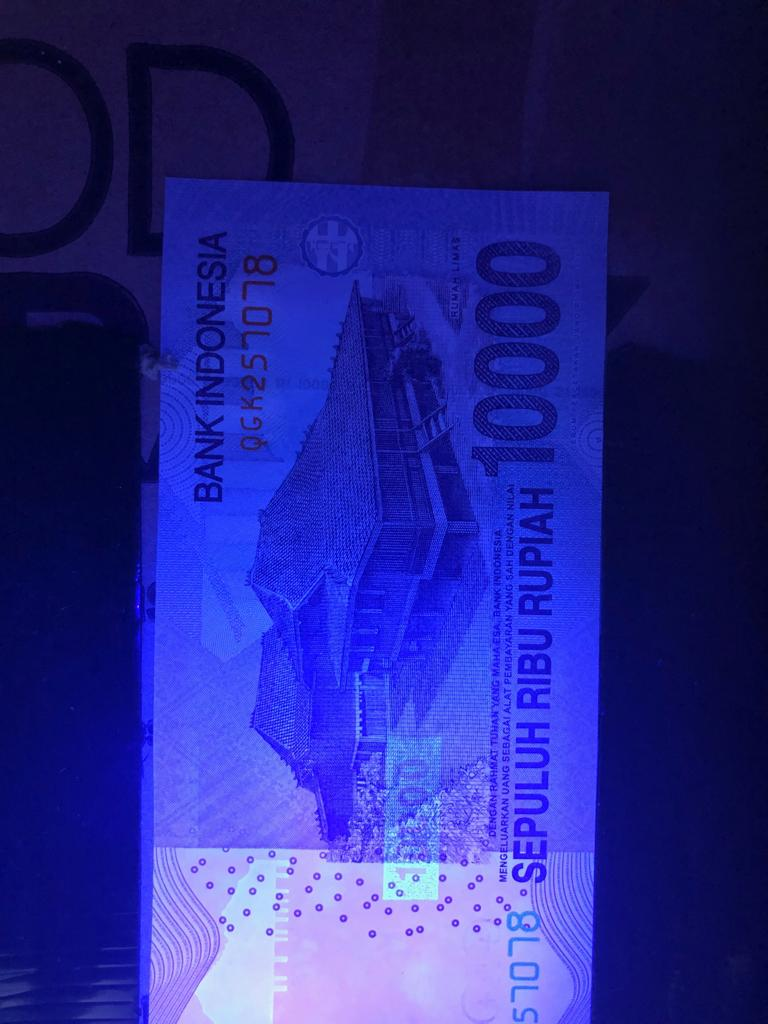10_RIBU_ASLI: (375, 725, 449, 904)
